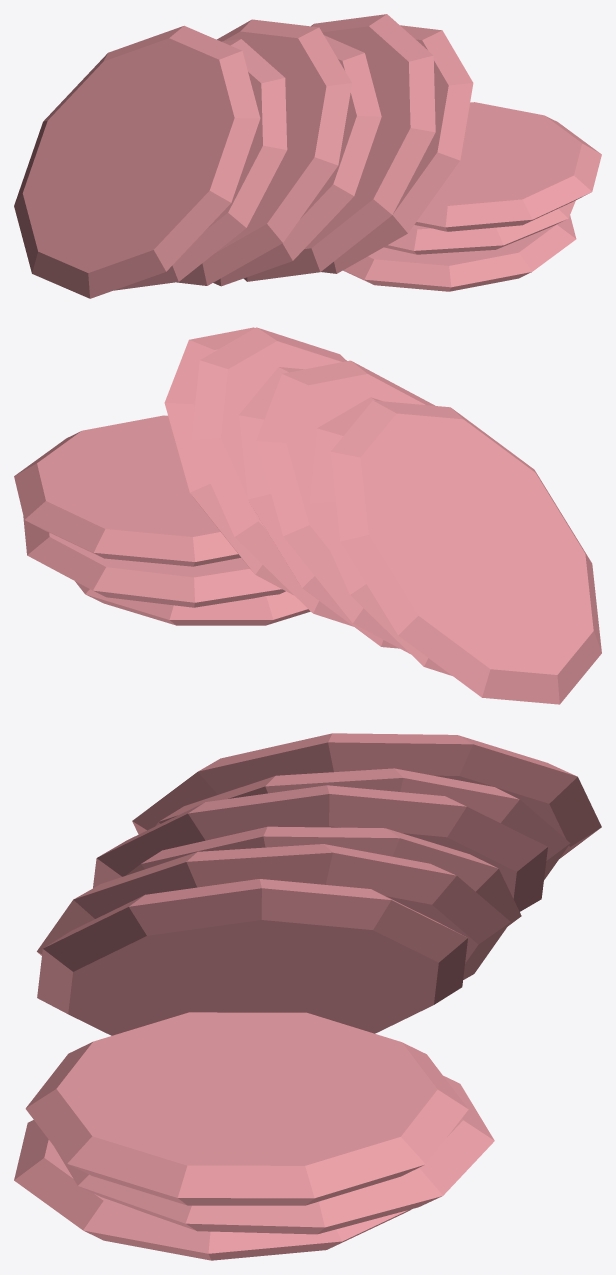
File: SM_Cook_Topping_ColdCut_01.fbx
The picture shows the model from 3 angles, top to bottom: view 1: azimuth 30°, elevation 25°; view 2: azimuth 150°, elevation 25°; view 3: azimuth 270°, elevation 25°; orthographic projection. The views are drawn at different scales.
Visible parts, largest first — view 1: SM_Cook_Topping_ColdCut_01; view 2: SM_Cook_Topping_ColdCut_01; view 3: SM_Cook_Topping_ColdCut_01.
Part boxes in pixels (box(x1,y1,x2,y2)): SM_Cook_Topping_ColdCut_01: box(14, 14, 601, 298); SM_Cook_Topping_ColdCut_01: box(14, 327, 601, 704); SM_Cook_Topping_ColdCut_01: box(14, 733, 601, 1260).
Size of the model in its own units: 0.1607 by 0.0649 by 0.107.
1 material, 1 textured.
